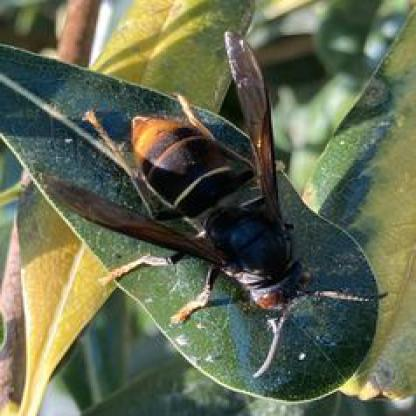Asian Hornet: (61, 24, 386, 373)
